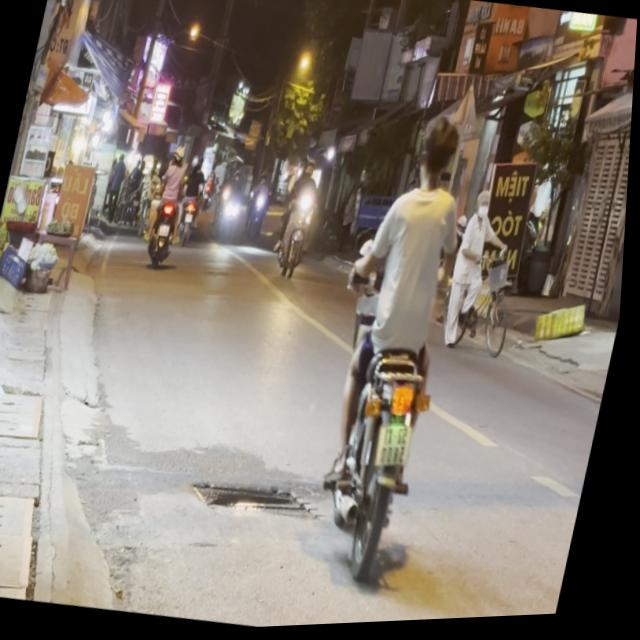licenseplate: (297, 104, 501, 591)
motorcyclist: (416, 113, 468, 193)
nohelmet: (379, 424, 419, 472)
